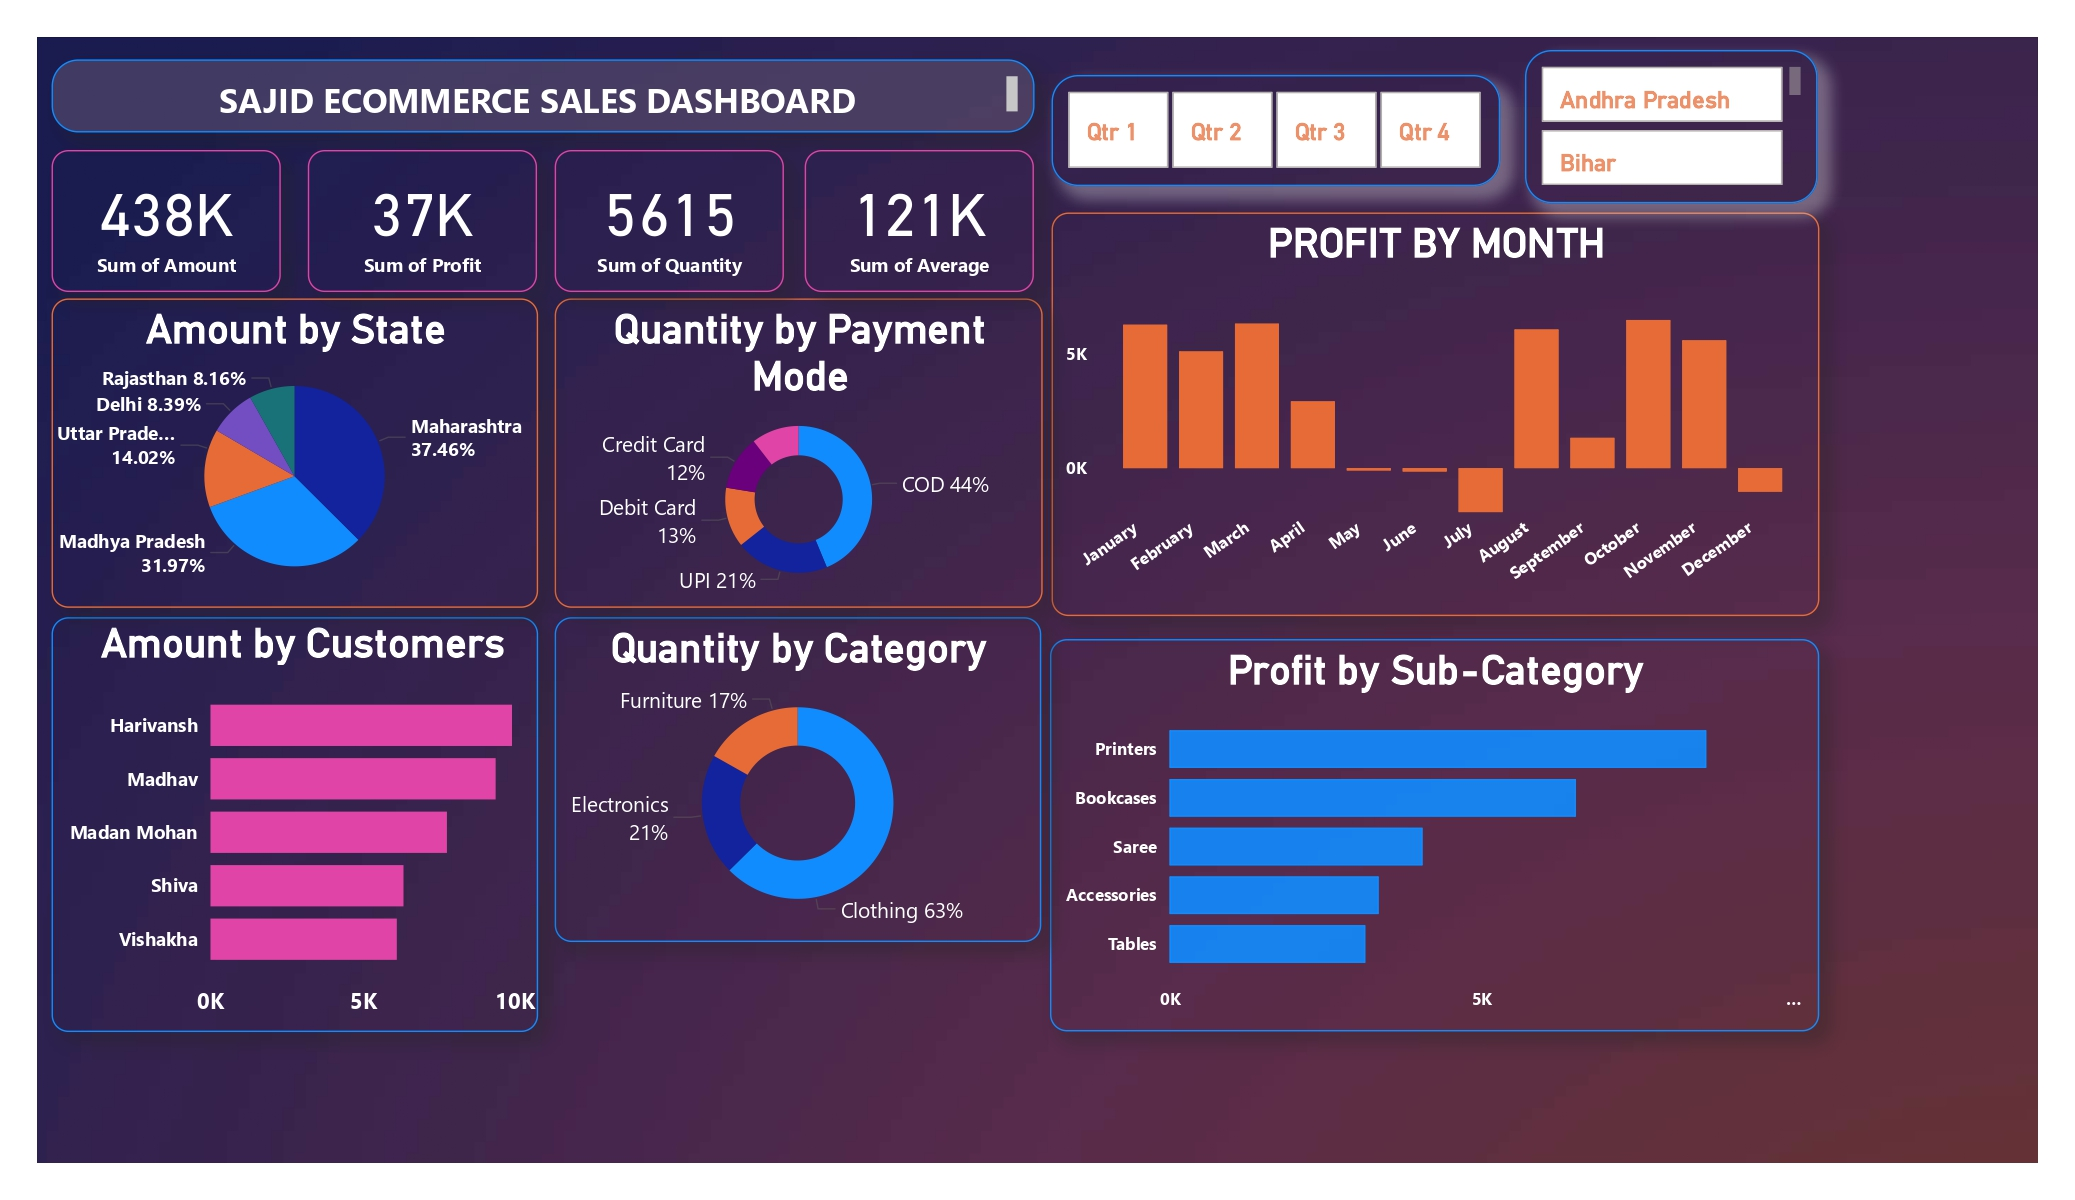

This screenshot's page, from the dashboard's own definition file:
{"tool":"powerbi","page":{"name":"Page 1","canvas":[1280,720],"ordinal":0},"visuals":[{"type":"textbox","box":[9.9,15.5,699.2,52.2],"z":0},{"type":"columnChart","title":"PROFIT BY MONTH","fields":{"Category":["Orders.Order Date.Variation.Date Hierarchy.Month"],"Y":["Details.Profit"]},"box":[720.6,124.3,545.9,287.2],"z":1000},{"type":"barChart","title":"Profit by Sub-Category","fields":{"Category":["Details.Sub-Category"],"Y":["Details.Profit"]},"box":[720,428,546.5,279],"z":2000},{"type":"donutChart","title":"Quantity by Category","fields":{"Category":["Details.Category"],"Y":["Details.Quantity"]},"box":[367.2,412,345.5,231.3],"z":3000},{"type":"donutChart","title":"Quantity by Payment Mode","fields":{"Y":["Details.Quantity"],"Category":["Details.PaymentMode"]},"box":[367.2,185.1,347,219.8],"z":4000},{"type":"card","fields":{"Values":["Details.Amount"]},"box":[10.1,79.5,163.4,101.2],"z":5000},{"type":"card","fields":{"Values":["Details.Profit"]},"box":[192.3,79.5,163.4,101.2],"z":6000},{"type":"card","fields":{"Values":["Details.Quantity"]},"box":[367.2,79.5,163.4,101.2],"z":7000},{"type":"card","fields":{"Values":["Details.Average"]},"box":[545.1,79.5,163.4,101.2],"z":8000},{"type":"barChart","title":"Amount by Customers","fields":{"Category":["Orders.CustomerName"],"Y":["Details.Amount"]},"box":[10.1,412,345.5,294.9],"z":9000},{"type":"pieChart","title":"Amount by State","fields":{"Category":["Orders.State"],"Y":["Details.Amount"]},"box":[10.1,185.1,345.5,219.8],"z":10000},{"type":"advancedSlicerVisual","fields":{"Values":["Orders.Order Date.Variation.Date Hierarchy.Quarter"]},"box":[720.6,26.9,319.2,79],"z":11000},{"type":"advancedSlicerVisual","fields":{"Values":["Orders.State"]},"box":[1058.3,8.4,208.3,109.2],"z":12000}]}

Visuals, with their boxes on the page's 1280x720 design canvas (x1, y1, x2, y2). These are canvas units, not pixel positions in the 2075x1200 screenshot, which may show the page scaled, cropped or inside an application window:
textbox: [10,16,709,68]
"PROFIT BY MONTH" columnChart: [721,124,1266,412]
"Profit by Sub-Category" barChart: [720,428,1266,707]
"Quantity by Category" donutChart: [367,412,713,643]
"Quantity by Payment Mode" donutChart: [367,185,714,405]
card - Details.Amount: [10,80,174,181]
card - Details.Profit: [192,80,356,181]
card - Details.Quantity: [367,80,531,181]
card - Details.Average: [545,80,708,181]
"Amount by Customers" barChart: [10,412,356,707]
"Amount by State" pieChart: [10,185,356,405]
advancedSlicerVisual - Orders.Order Date.Variation.Date Hierarchy.Quarter: [721,27,1040,106]
advancedSlicerVisual - Orders.State: [1058,8,1267,118]
